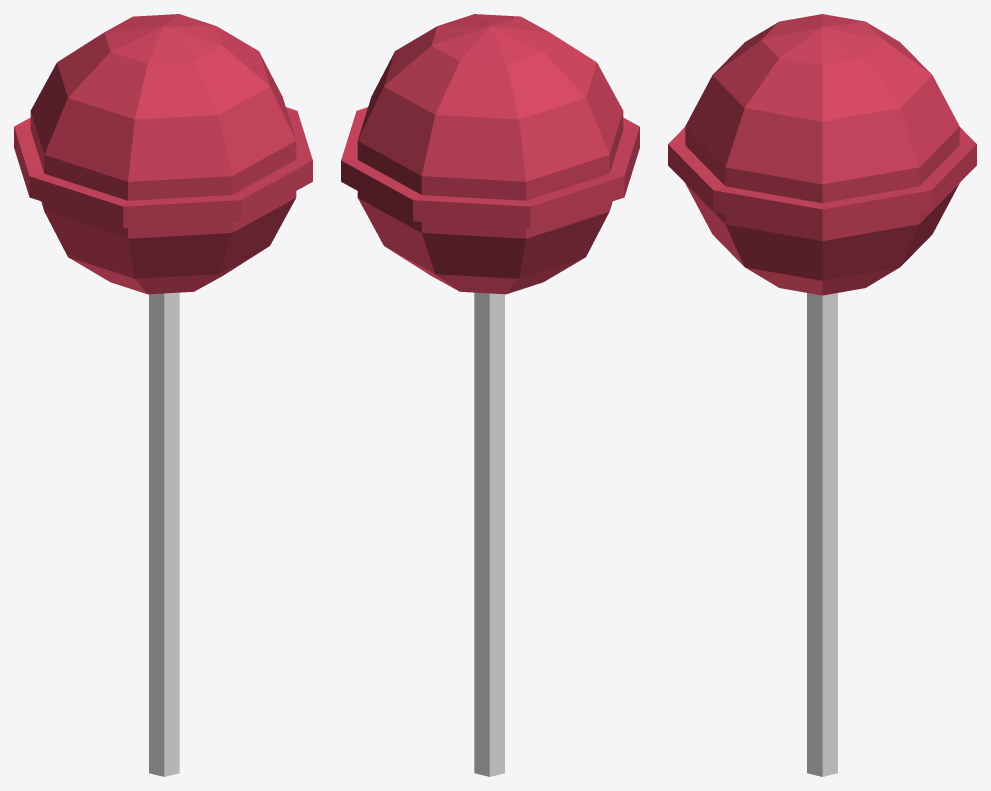
Rendered from Chupeta.fbx.
The picture shows the model from 3 angles, left to right: view 1: azimuth 30°, elevation 25°; view 2: azimuth 150°, elevation 25°; view 3: azimuth 270°, elevation 25°; orthographic projection.
Visible parts, largest first — view 1: pSphere1, pCylinder1; view 2: pSphere1, pCylinder1; view 3: pSphere1, pCylinder1.
Part boxes in pixels (box(x1,y1,x2,y2)): pSphere1: box(14, 14, 312, 294); pCylinder1: box(149, 292, 179, 776); pSphere1: box(341, 14, 639, 294); pCylinder1: box(474, 292, 504, 776); pSphere1: box(668, 14, 976, 295); pCylinder1: box(807, 293, 837, 776).
Bounding box in the file's own units: 2.19 × 5.81 × 2.19.
